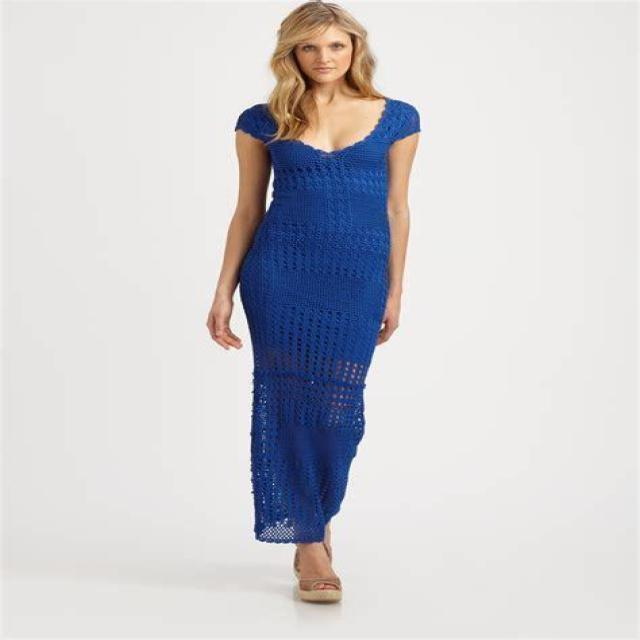dress: (234, 97, 420, 544)
